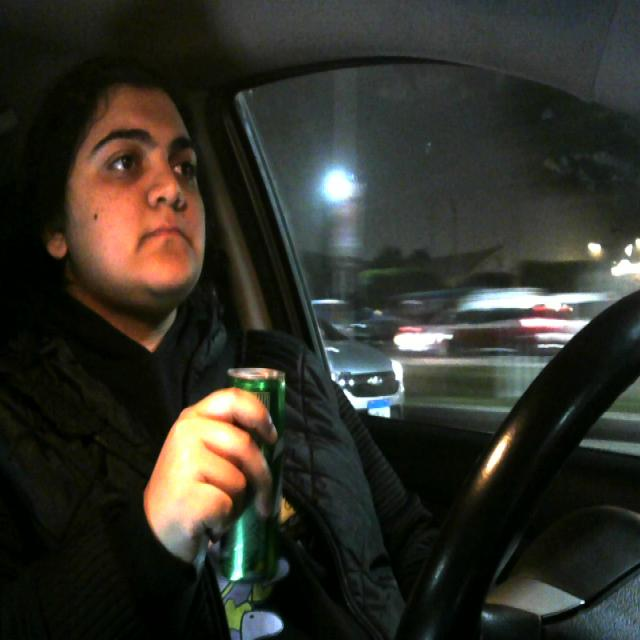drinking: (218, 346, 287, 594)
